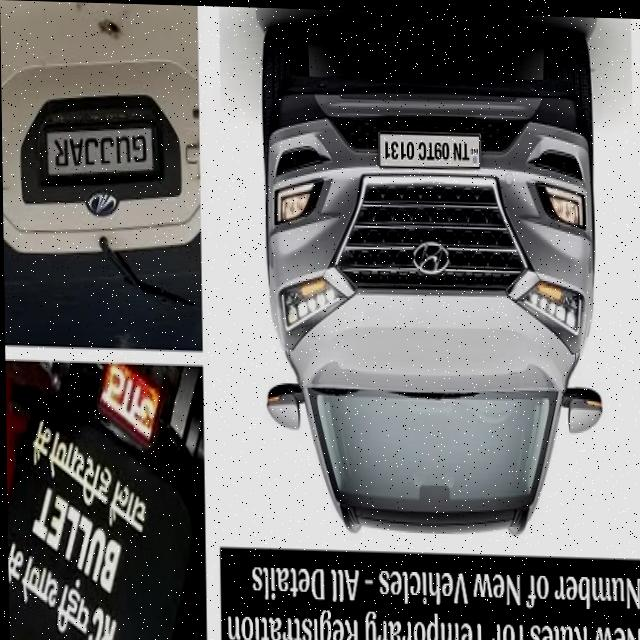plate: (42, 120, 160, 185), (378, 128, 483, 169)
